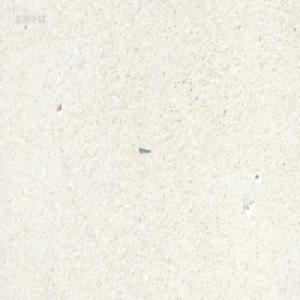Nail: (137, 144, 150, 151)
